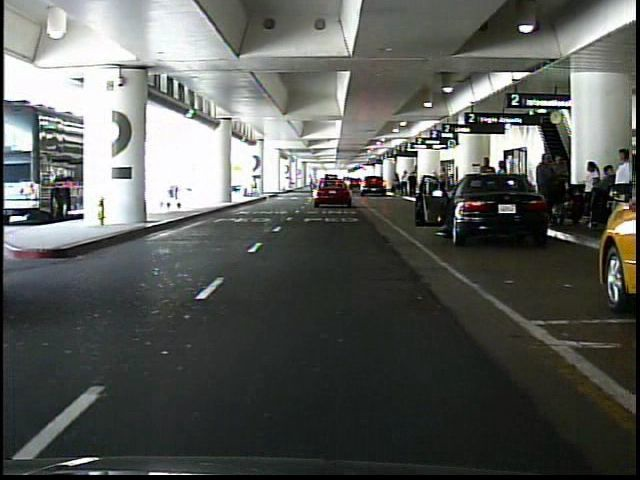person: (612, 148, 632, 240), (598, 163, 619, 230), (537, 152, 561, 209), (478, 156, 497, 213), (497, 158, 513, 212), (583, 160, 601, 198), (402, 169, 411, 198), (409, 172, 418, 199), (395, 175, 403, 196), (308, 174, 317, 191), (562, 149, 563, 225)
